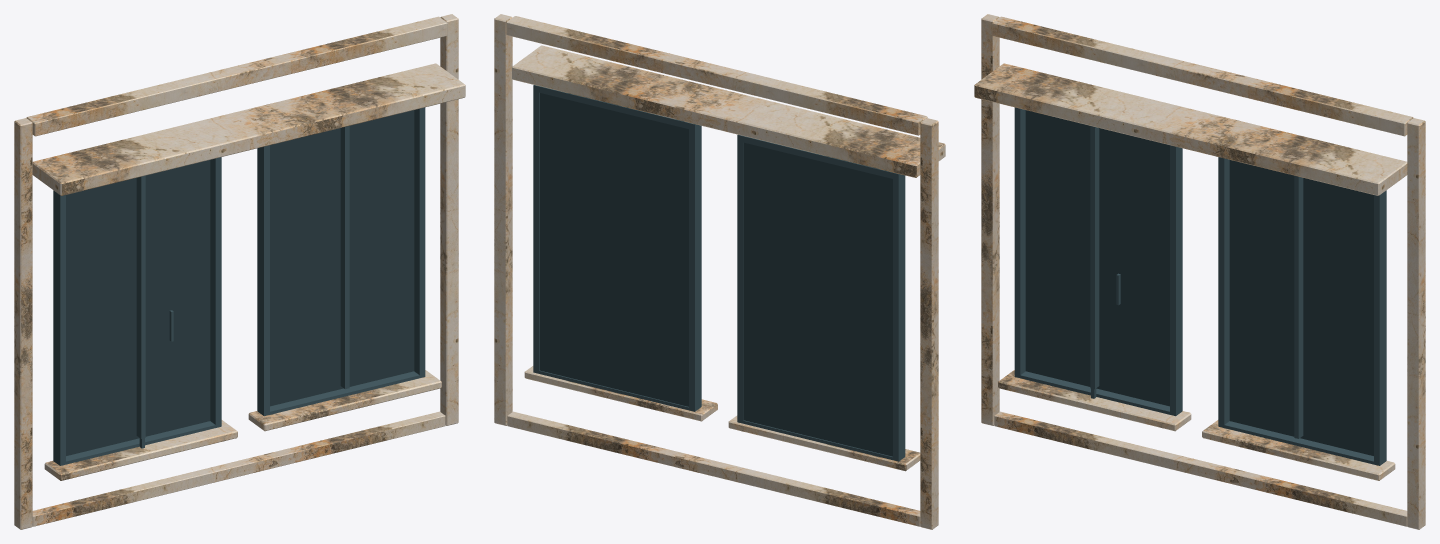
Rendered from facade_aged_office_ground.glb.
3 renders of one model, left to right at view 1: azimuth 30°, elevation 25°; view 2: azimuth 150°, elevation 25°; view 3: azimuth 330°, elevation 25°, orthographic.
Parts seen in each view (by area): view 1: facade_aged_office_ground__VVK_dark_glass, facade_aged_office_ground__VVK_concrete_CC0, facade_aged_office_ground__VVK_painted_steel; view 2: facade_aged_office_ground__VVK_dark_glass, facade_aged_office_ground__VVK_concrete_CC0, facade_aged_office_ground__VVK_painted_steel; view 3: facade_aged_office_ground__VVK_dark_glass, facade_aged_office_ground__VVK_concrete_CC0, facade_aged_office_ground__VVK_painted_steel.
Part boxes in pixels (x1,y1,x2,y2): facade_aged_office_ground__VVK_dark_glass: (66,110,414,455); facade_aged_office_ground__VVK_concrete_CC0: (14,14,465,529); facade_aged_office_ground__VVK_painted_steel: (53,107,425,465); facade_aged_office_ground__VVK_dark_glass: (540,93,892,456); facade_aged_office_ground__VVK_concrete_CC0: (494,14,945,529); facade_aged_office_ground__VVK_painted_steel: (533,85,905,461); facade_aged_office_ground__VVK_dark_glass: (1025,110,1373,455); facade_aged_office_ground__VVK_concrete_CC0: (974,14,1425,529); facade_aged_office_ground__VVK_painted_steel: (1014,107,1386,465).
Size of the model in its own units: 3.4 by 3 by 0.418.
Materials: 3 (1 with a texture image).
